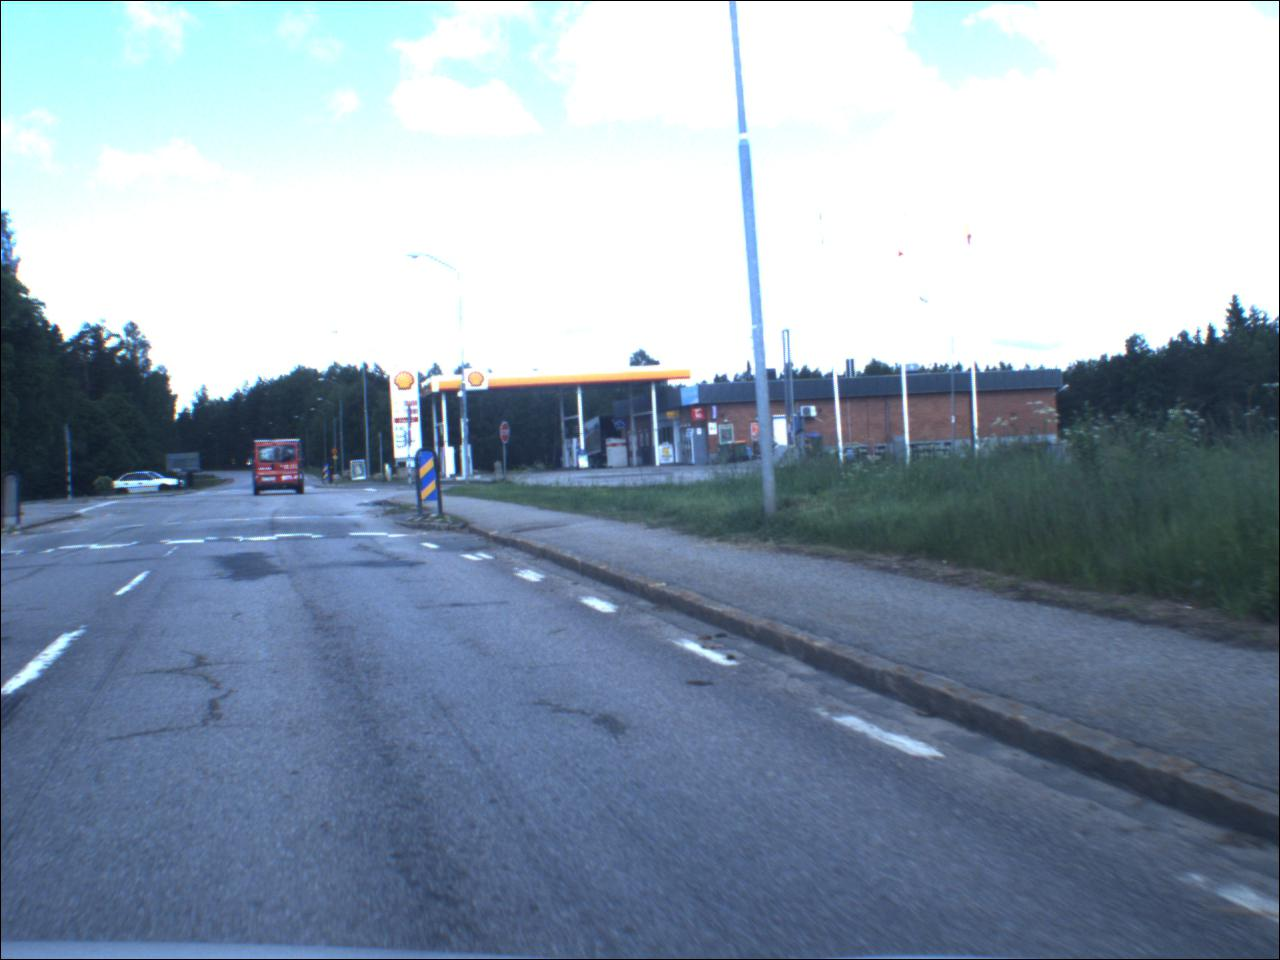50_SIGN: (333, 450, 341, 457)
PRIORITY_ROAD: (334, 457, 342, 463)
STOP: (502, 422, 514, 445)
